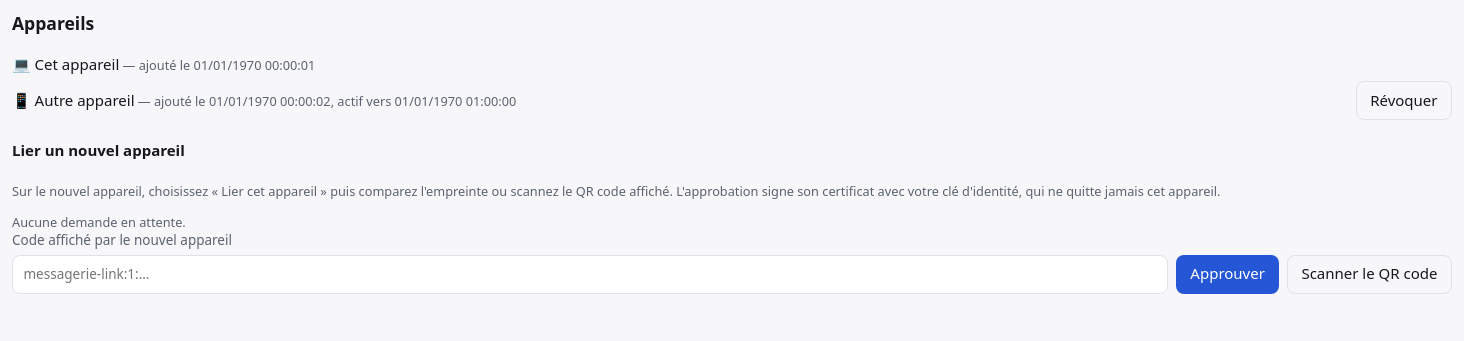
Test: Appareils › liste les appareils et révoque un autre appareil
This screenshot has width=1464, height=341.
Expected: the text "💻 Cet appareil — ajouté le 01/01/1970 00:00:01" is shown, [12, 54, 315, 75]
Click the button "Révoquer": (1404, 101) [1356, 81, 1452, 120]
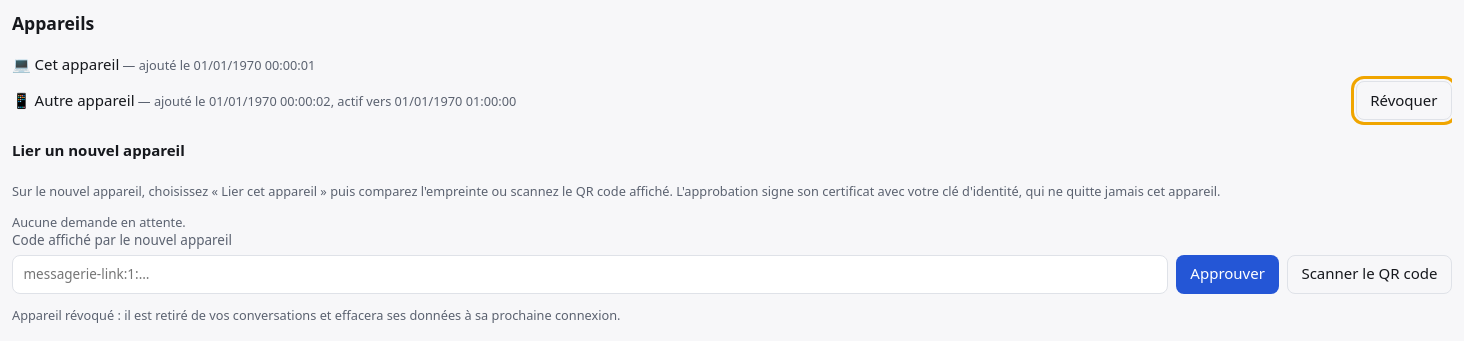
Expected: the text "Appareil révoqué" is shown, [12, 306, 620, 324]
